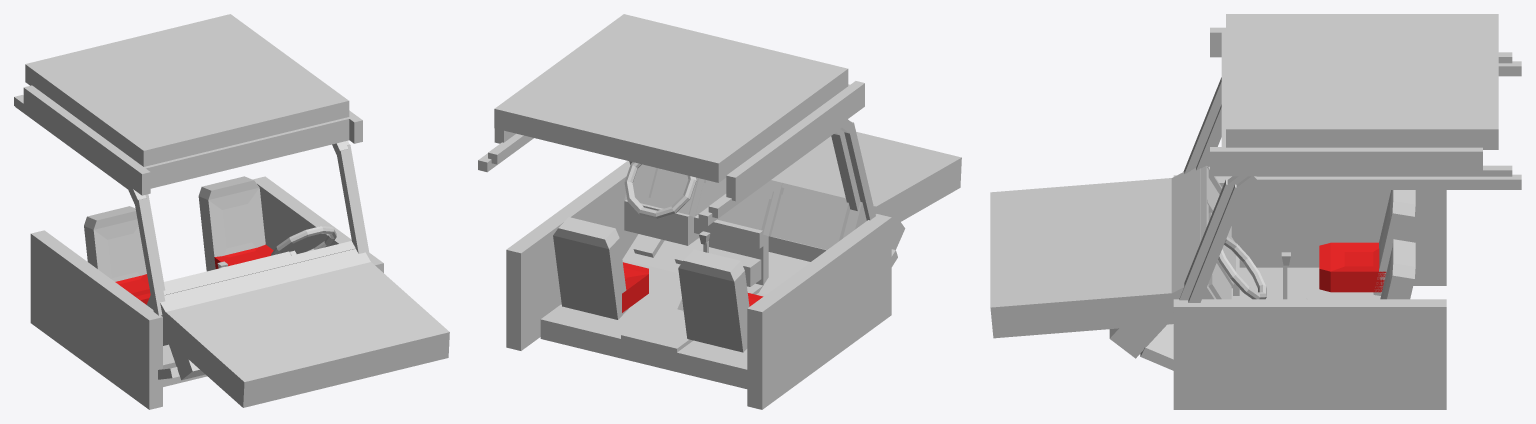
The model's file is Truck Cockpit 1.fbx.
3 views of the same model, side by side, from view 1: azimuth 30°, elevation 25°; view 2: azimuth 150°, elevation 25°; view 3: azimuth 270°, elevation 25° (orthographic). The views are drawn at different scales.
Visible parts, largest first — view 1: cube_21, cube_43, cube_42, cube_19, cube, cube_41, cube_9, cube_5, cube_11, cube_6, cube_36, cube_14 (+6 smaller); view 2: cube_21, cube_42, cube_43, cube_11, cube_13, cube, cube_5, cube_41, cube_46, cube_12, cube_8, cube_34 (+16 smaller); view 3: cube_21, cube_11, cube_43, cube_42, cube_20, cube_18, cube_4, cube_9, cube_13, cube_5, cube, cube_10 (+9 smaller).
Part boxes in pixels (<box>): cube_21: <box>25,14,349,166</box>; cube_43: <box>164,262,449,407</box>; cube_42: <box>30,230,162,409</box>; cube_19: <box>140,117,349,188</box>; cube: <box>198,176,265,271</box>; cube_41: <box>23,85,150,195</box>; cube_9: <box>152,249,370,345</box>; cube_5: <box>84,206,146,281</box>; cube_11: <box>253,176,383,272</box>; cube_6: <box>146,241,355,308</box>; cube_36: <box>134,198,165,315</box>; cube_14: <box>336,148,367,255</box>; cube_21: <box>494,14,848,182</box>; cube_42: <box>747,214,891,409</box>; cube_43: <box>771,131,961,226</box>; cube_11: <box>506,161,638,350</box>; cube_13: <box>540,259,765,388</box>; cube: <box>553,217,628,319</box>; cube_5: <box>678,249,749,352</box>; cube_41: <box>726,81,864,201</box>; cube_46: <box>771,194,842,249</box>; cube_12: <box>621,283,762,354</box>; cube_8: <box>622,234,897,294</box>; cube_34: <box>624,200,699,245</box>; cube_21: <box>1226,14,1498,149</box>; cube_11: <box>1173,299,1446,409</box>; cube_43: <box>990,178,1173,338</box>; cube_42: <box>1173,175,1446,285</box>; cube_20: <box>1210,147,1482,176</box>; cube_18: <box>1249,174,1521,189</box>; cube_4: <box>1319,242,1386,292</box>; cube_9: <box>1164,171,1203,311</box>; cube_13: <box>1239,267,1380,299</box>; cube_5: <box>1373,190,1415,295</box>; cube: <box>1380,239,1415,299</box>; cube_10: <box>1188,184,1245,302</box>.
Bounding box in the file's own units: 856 × 838 × 1460.
Materials: 1 (1 with a texture image).
